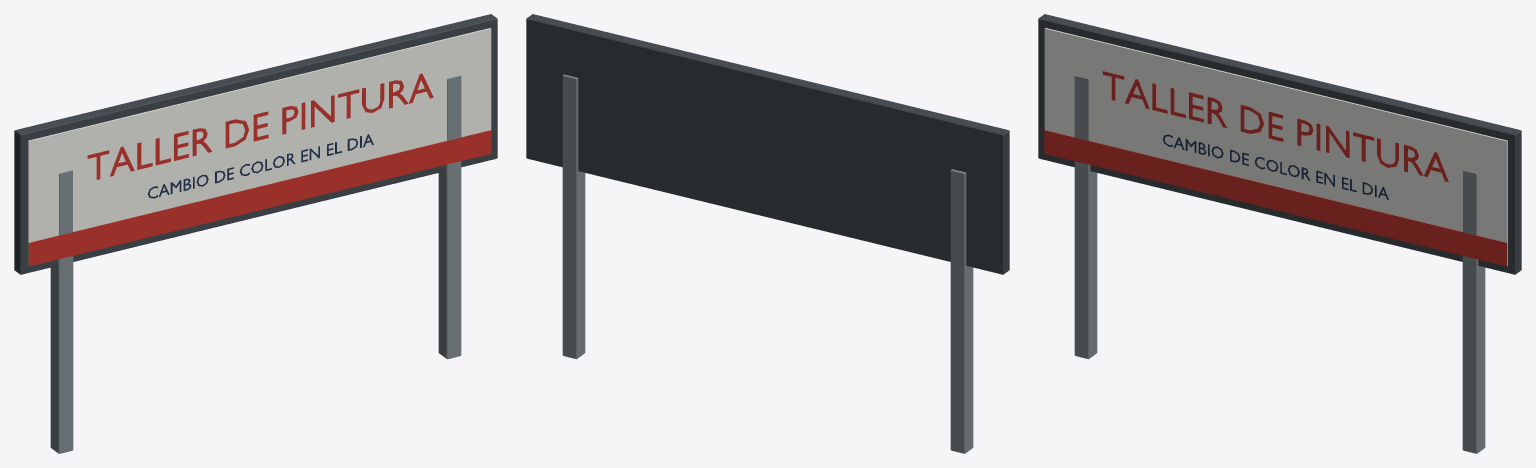
The model's file is Sign_TallerPintura.fbx.
3 renders of one model, left to right at view 1: azimuth 30°, elevation 25°; view 2: azimuth 150°, elevation 25°; view 3: azimuth 330°, elevation 25°, orthographic.
Visible parts, largest first — view 1: Sign_TallerPintura; view 2: Sign_TallerPintura; view 3: Sign_TallerPintura.
Part boxes in pixels (box(x1,y1,x2,y2)): Sign_TallerPintura: box(14, 14, 497, 453); Sign_TallerPintura: box(526, 14, 1009, 453); Sign_TallerPintura: box(1038, 14, 1521, 453).
Size of the model in its own units: 6.4 by 4.2 by 0.207.
